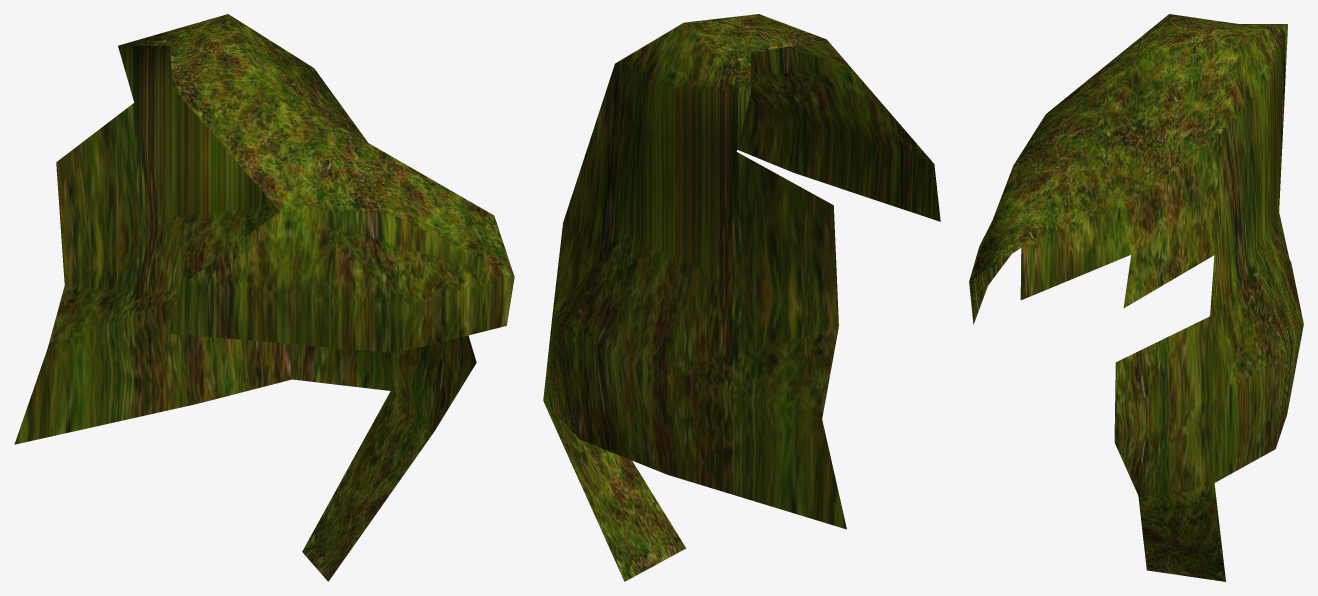
The model's file is TROLLHOLE02_RM_PSURF95.fbx.
3 views of the same model, side by side, from view 1: azimuth 30°, elevation 25°; view 2: azimuth 150°, elevation 25°; view 3: azimuth 270°, elevation 25° (orthographic). The views are drawn at different scales.
Parts seen in each view (by area): view 1: TROLLHOLE02_RM_PSURF95; view 2: TROLLHOLE02_RM_PSURF95; view 3: TROLLHOLE02_RM_PSURF95.
Part boxes in pixels (x1,y1,x2,y2): TROLLHOLE02_RM_PSURF95: (14, 14, 514, 581); TROLLHOLE02_RM_PSURF95: (543, 14, 940, 581); TROLLHOLE02_RM_PSURF95: (969, 14, 1303, 581).
Size of the model in its own units: 44214 by 63564 by 37455.
1 material, 1 textured.
